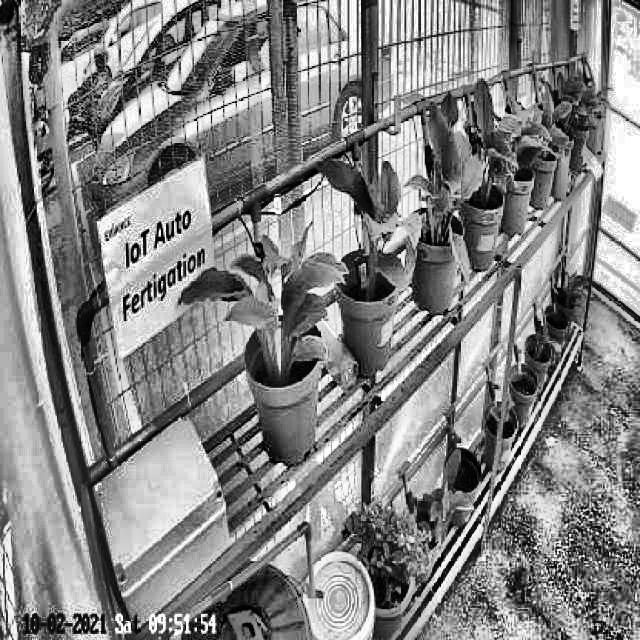plants: (178, 218, 347, 372), (402, 91, 473, 294), (317, 155, 420, 294), (446, 80, 523, 211)
